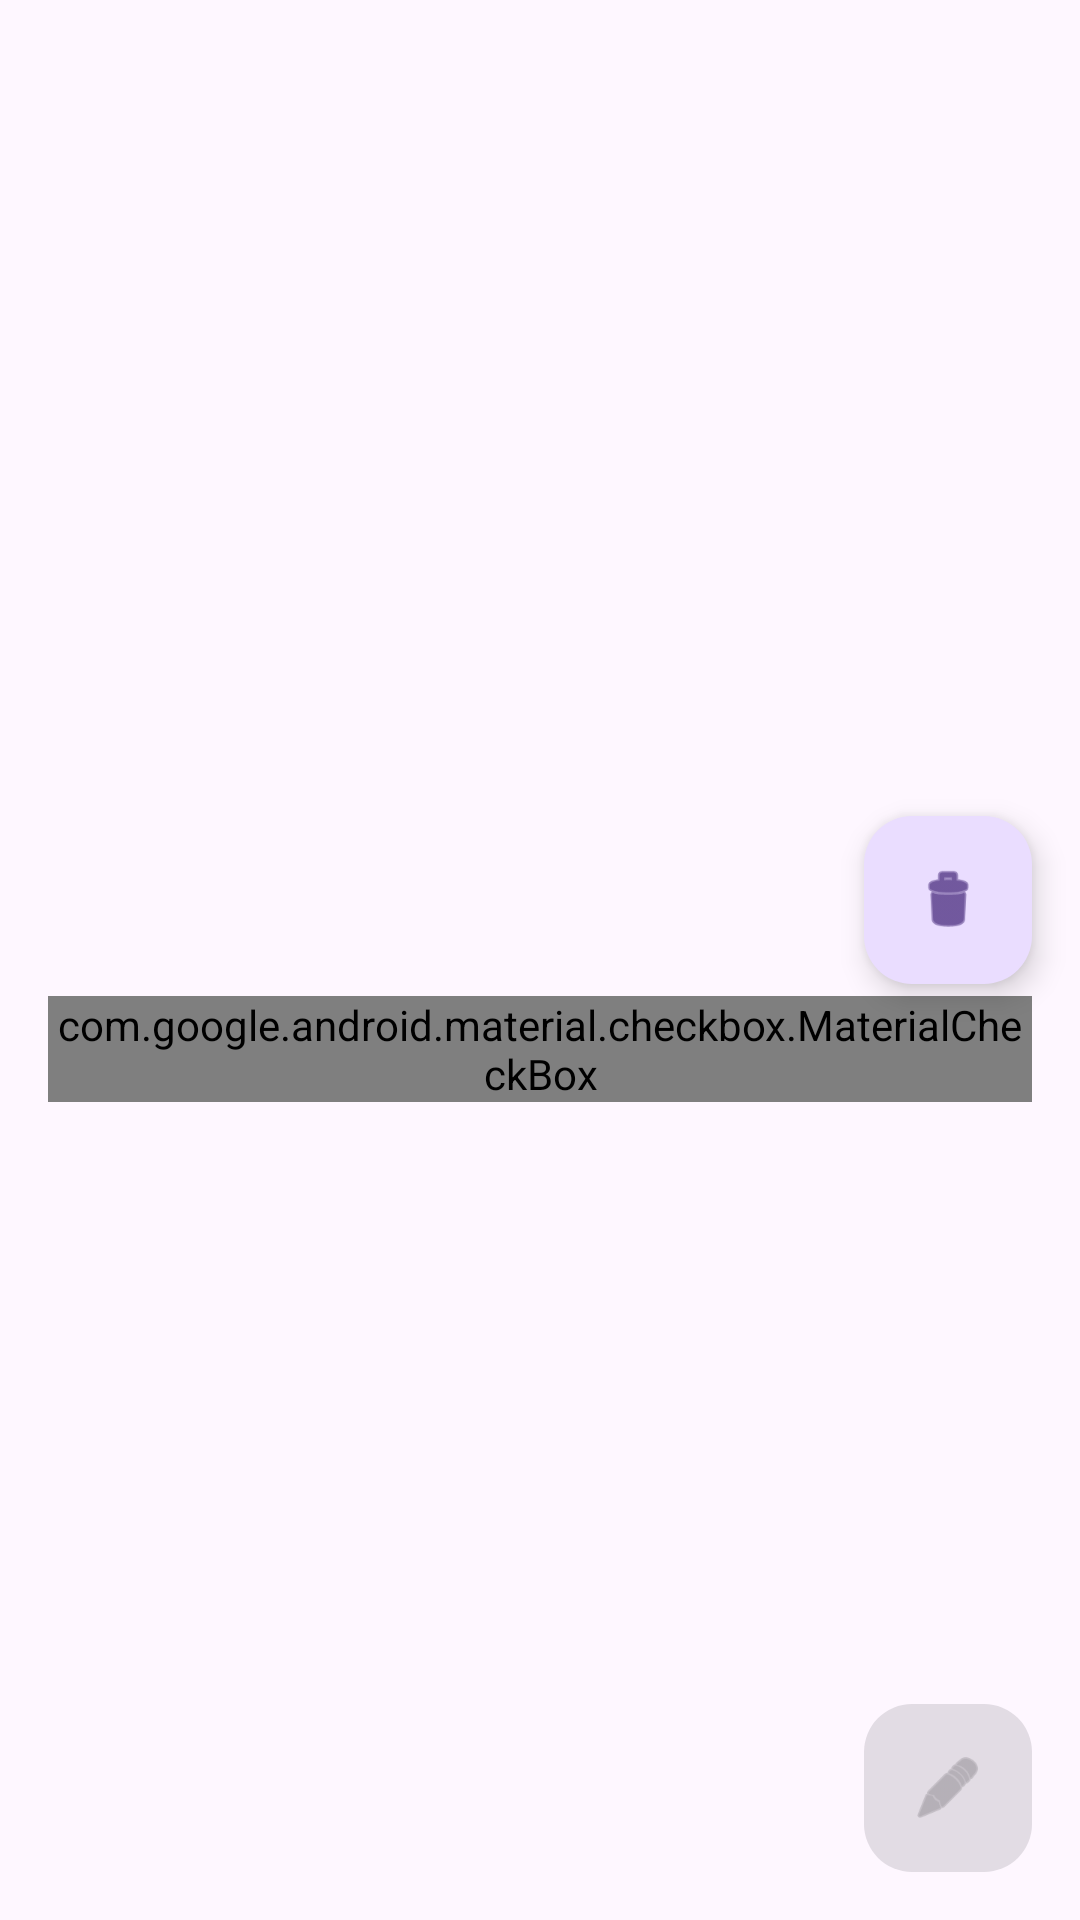

Where to tap for icons on this 1080 x 1920 app screen, as point (x, y):
delete: point (948, 900)
edit: point (948, 1788)
